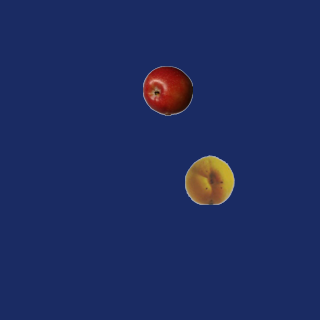Apple Braeburn: (142, 65, 192, 115)
Peach 2: (184, 154, 234, 204)
